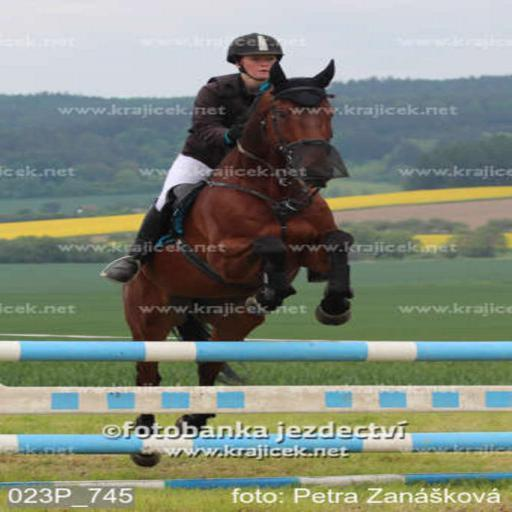horse: (127, 57, 357, 468)
